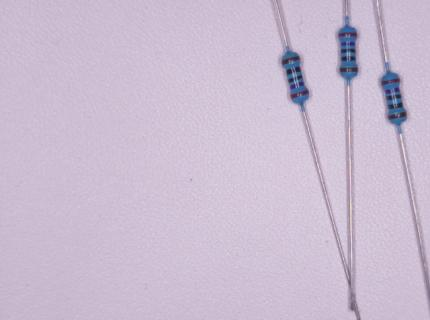Black band: (286, 67, 301, 75), (289, 75, 302, 83), (389, 102, 403, 109), (387, 94, 401, 100), (341, 49, 356, 54), (341, 56, 356, 61)
Brown band: (282, 56, 300, 65), (389, 111, 406, 120), (340, 67, 358, 72)
Red band: (290, 89, 310, 99), (381, 78, 400, 86), (338, 32, 357, 38)
Violet band: (290, 81, 305, 90), (384, 87, 400, 94), (340, 42, 356, 47)
